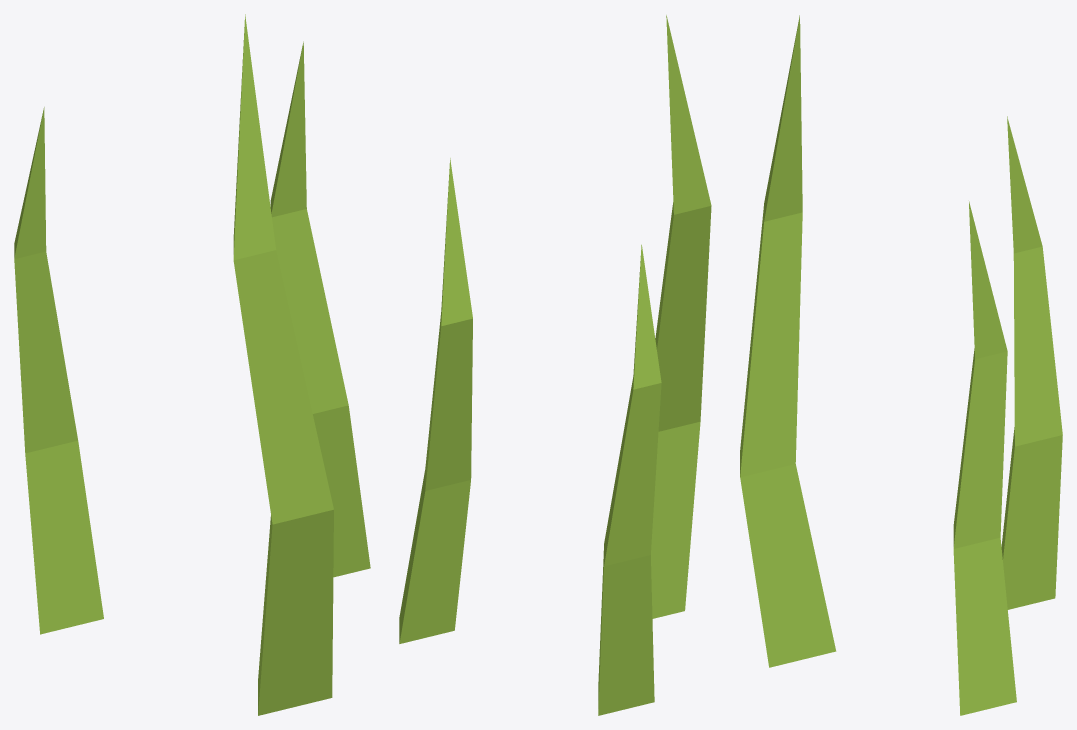
File: grass.fbx
3 views of the same model, side by side, from view 1: azimuth 30°, elevation 25°; view 2: azimuth 150°, elevation 25°; view 3: azimuth 270°, elevation 25° (orthographic). The views are drawn at different scales.
Parts seen in each view (by area): view 1: Grass; view 2: Grass; view 3: Grass.
Boxes of the visible parts, x1,y1,x2,y2 form: Grass: (14,14,370,715); Grass: (399,15,711,715); Grass: (740,15,1062,715).
Size of the model in its own units: 11.05 by 22.25 by 10.45.
